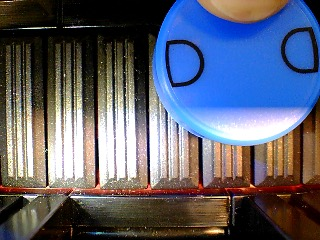MIPO2: (151, 1, 320, 147)
